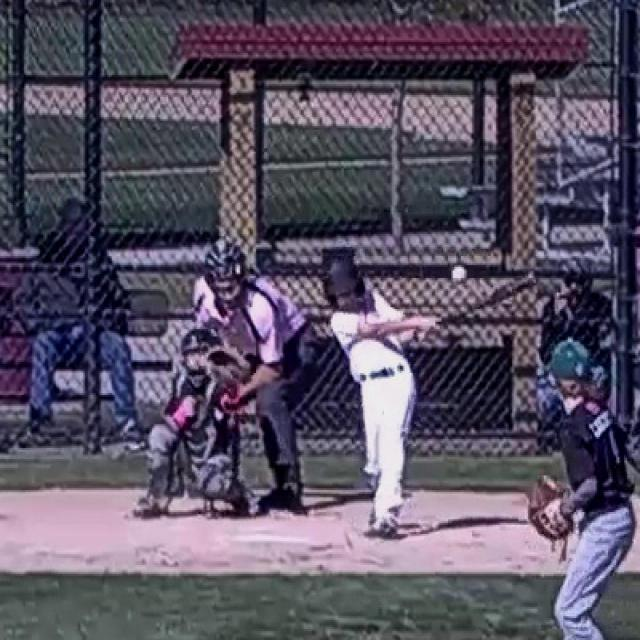baseball: (451, 266, 467, 282)
